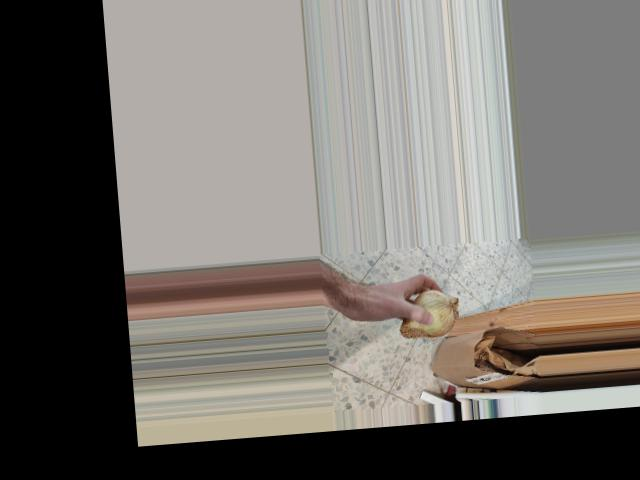onion: (394, 282, 462, 343)
